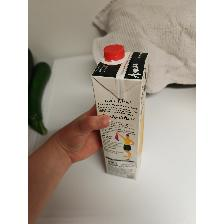Saft: (90, 42, 150, 182)
